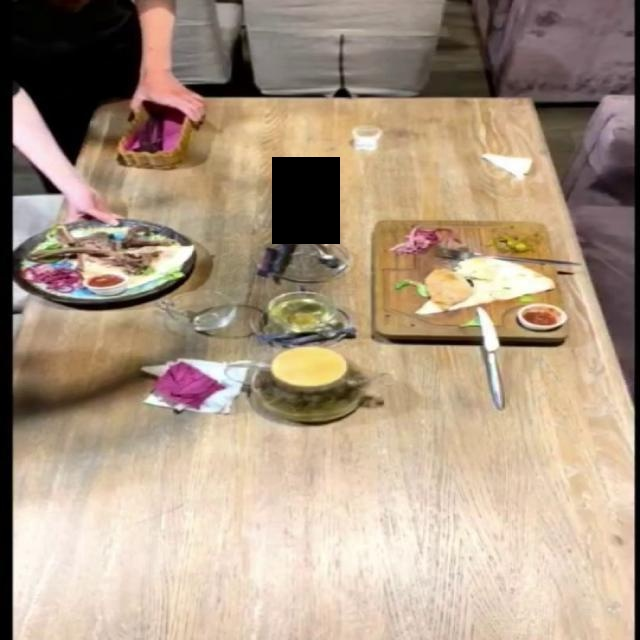meat: (364, 210, 565, 347), (35, 189, 171, 332)
tea: (217, 350, 377, 434)
